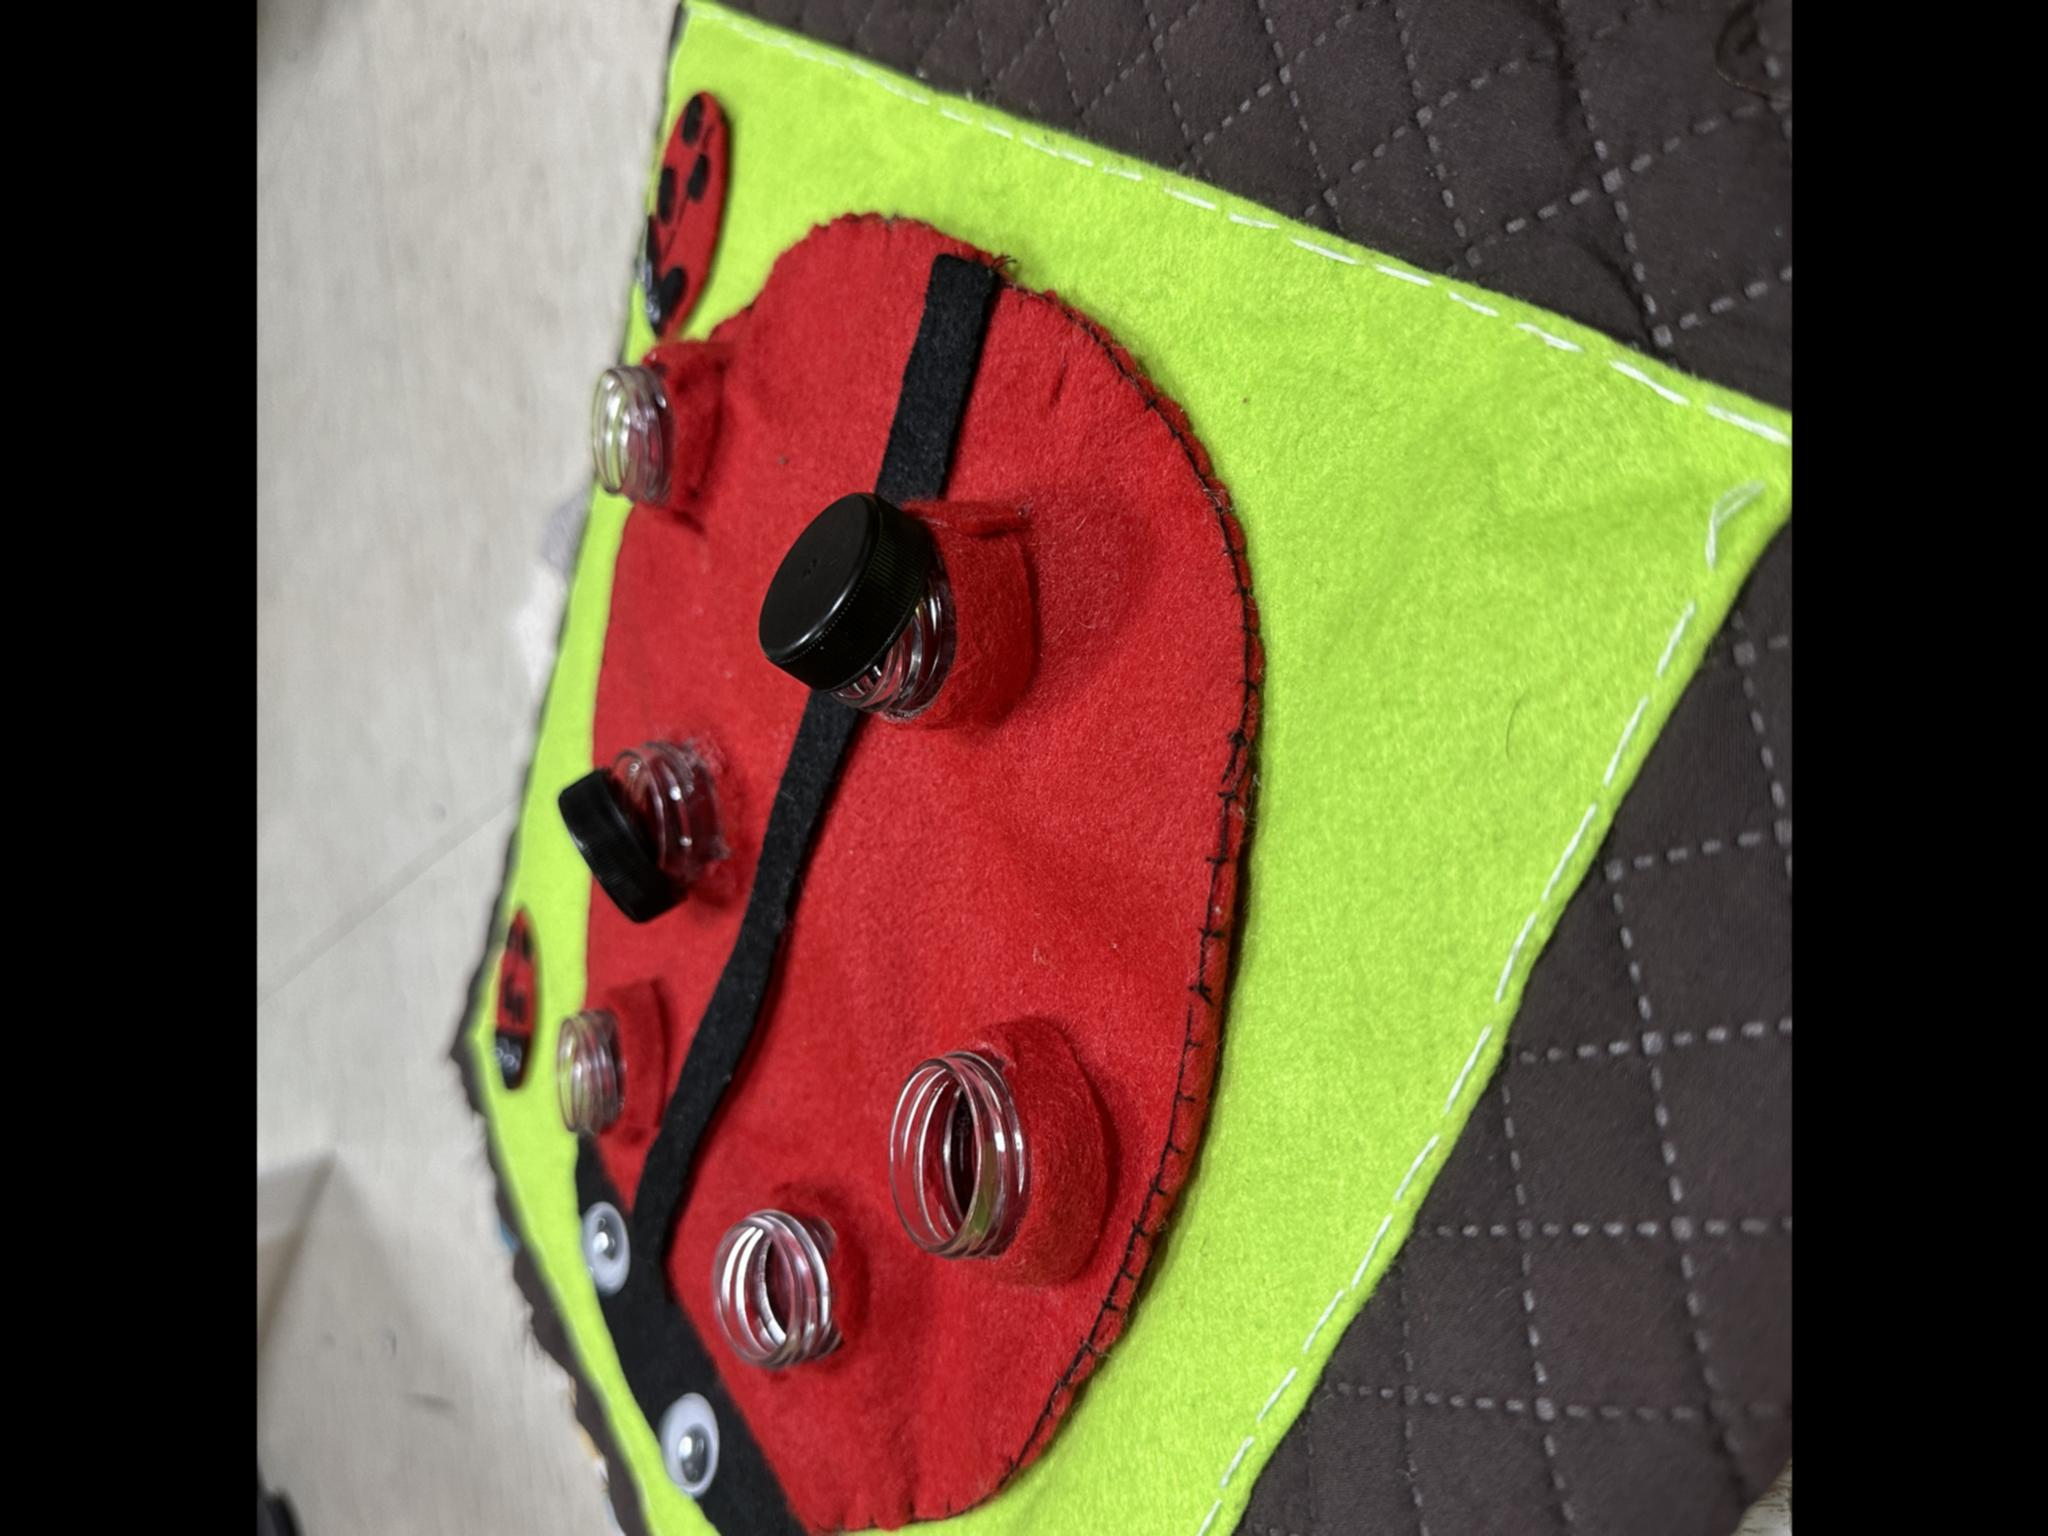cap_ng: (751, 449, 1045, 749), (543, 712, 743, 936)
